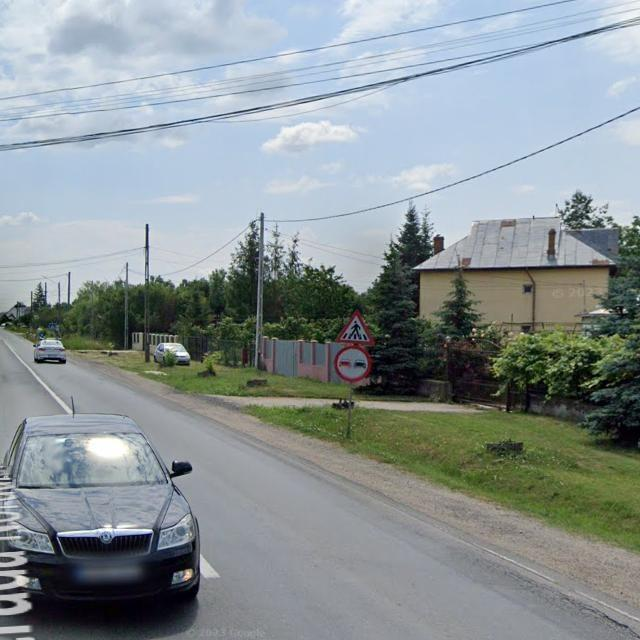forb_overtake: (334, 345, 372, 384)
warn_crosswalk: (335, 310, 374, 345)
